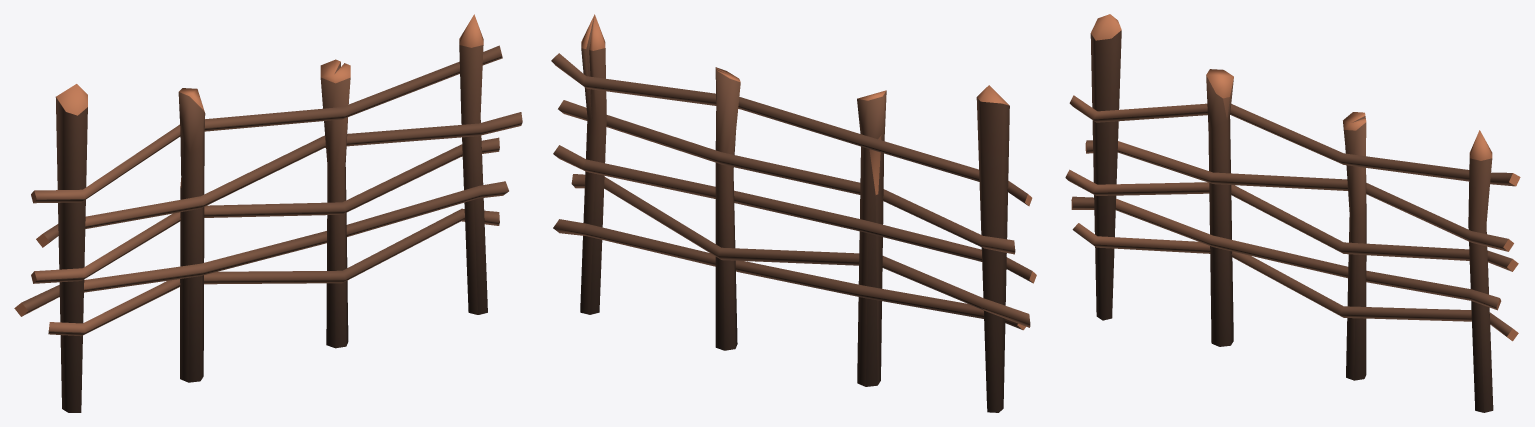
Rendered from Fence_3B.FBX.
3 renders of one model, left to right at view 1: azimuth 30°, elevation 25°; view 2: azimuth 150°, elevation 25°; view 3: azimuth 330°, elevation 25°, orthographic. The views are drawn at different scales.
Visible parts, largest first — view 1: Fence_3B; view 2: Fence_3B; view 3: Fence_3B.
Part boxes in pixels (<box>): Fence_3B: <box>14,14,522,412</box>; Fence_3B: <box>551,14,1036,412</box>; Fence_3B: <box>1065,14,1520,412</box>.
Bounding box in the file's own units: 197 × 125 × 18.71.
